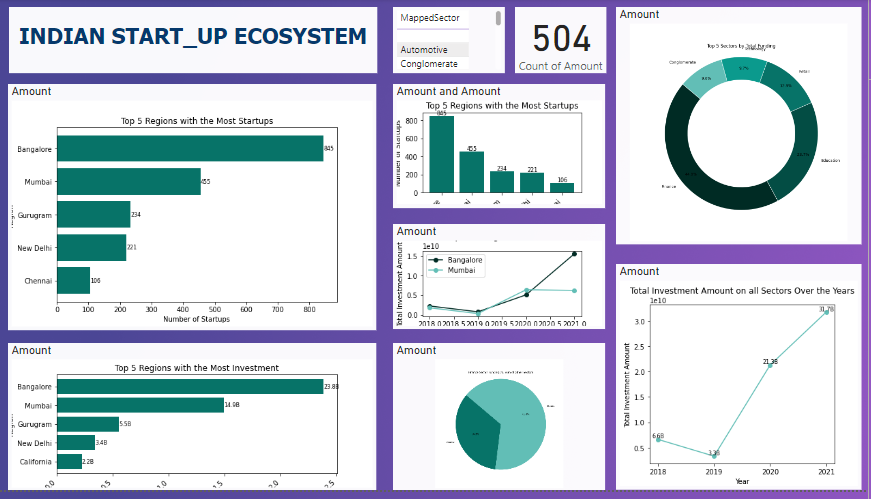

This screenshot's page, from the dashboard's own definition file:
{"tool":"powerbi","page":{"name":"Page 1","canvas":[1280,720],"ordinal":0},"visuals":[{"type":"pythonVisual","fields":{"Values":["full_data.Amount"]},"box":[19.3,123.9,539.7,360.7],"z":0},{"type":"pythonVisual","fields":{"Values":["full_data.Amount","full_data.Amount"]},"box":[583.7,123.9,311.1,181.7],"z":1000},{"type":"pythonVisual","fields":{"Values":["full_data.Amount"]},"box":[910.2,11.7,360,348.3],"z":2000},{"type":"pythonVisual","fields":{"Values":["full_data.Amount"]},"box":[19.3,503.9,539.7,217.5],"z":3000},{"type":"pythonVisual","fields":{"Values":["full_data.Amount"]},"box":[582.4,330.7,313.2,152.2],"z":4000},{"type":"pythonVisual","fields":{"Values":["full_data.Amount"]},"box":[910.2,389.3,360,330.7],"z":5000},{"type":"pythonVisual","fields":{"Values":["full_data.Amount"]},"box":[583.7,503.9,311.1,217.5],"z":6000},{"type":"textbox","box":[20.1,11.7,539.7,96.9],"z":7000},{"type":"tableEx","fields":{"Values":["full_data.MappedSector"]},"box":[583.2,11.7,163.8,96.9],"z":8000},{"type":"card","fields":{"Values":["Count(full_data.Amount)"]},"box":[762.4,11.7,132,96.8],"z":9000}]}

Visuals, with their boxes in screenshot pixels (x1, y1, x2, y2), scaled from the page's 1280x720 canvas onto the 871x499 screenshot:
pythonVisual - full_data.Amount: [13, 86, 380, 336]
pythonVisual - full_data.Amount x full_data.Amount: [397, 86, 609, 212]
pythonVisual - full_data.Amount: [619, 8, 864, 250]
pythonVisual - full_data.Amount: [13, 349, 380, 498]
pythonVisual - full_data.Amount: [396, 229, 609, 335]
pythonVisual - full_data.Amount: [619, 270, 864, 498]
pythonVisual - full_data.Amount: [397, 349, 609, 498]
textbox: [14, 8, 381, 75]
tableEx - full_data.MappedSector: [397, 8, 508, 75]
card - Count(full_data.Amount): [519, 8, 609, 75]
